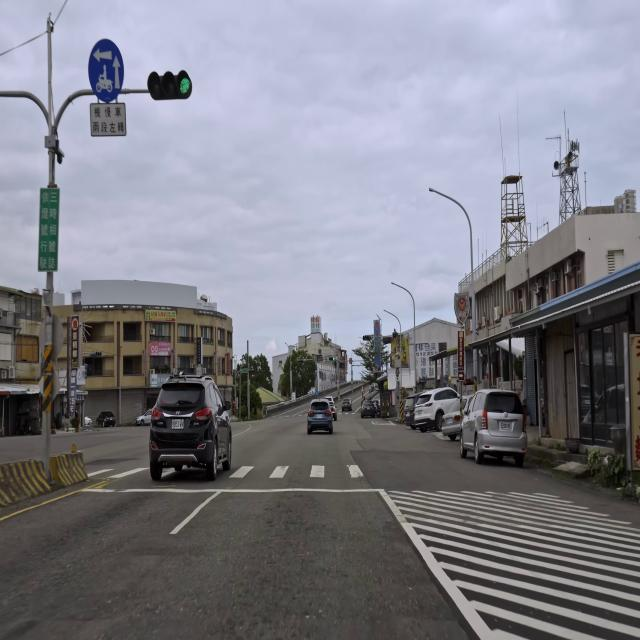green light: (147, 68, 192, 99)
